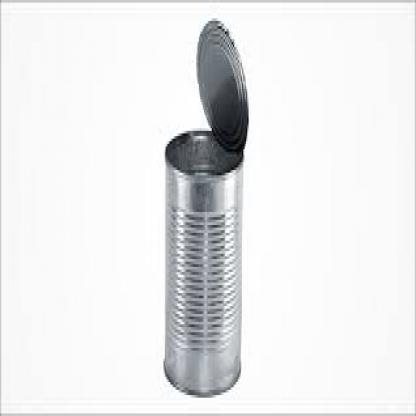Metal: (148, 26, 282, 406)
